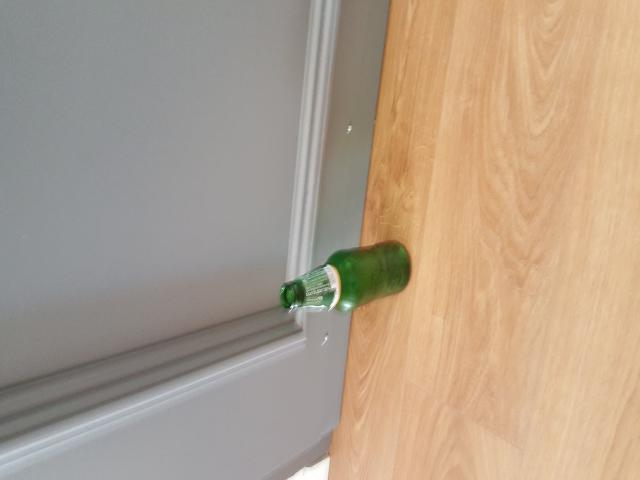beer: (282, 242, 410, 309)
